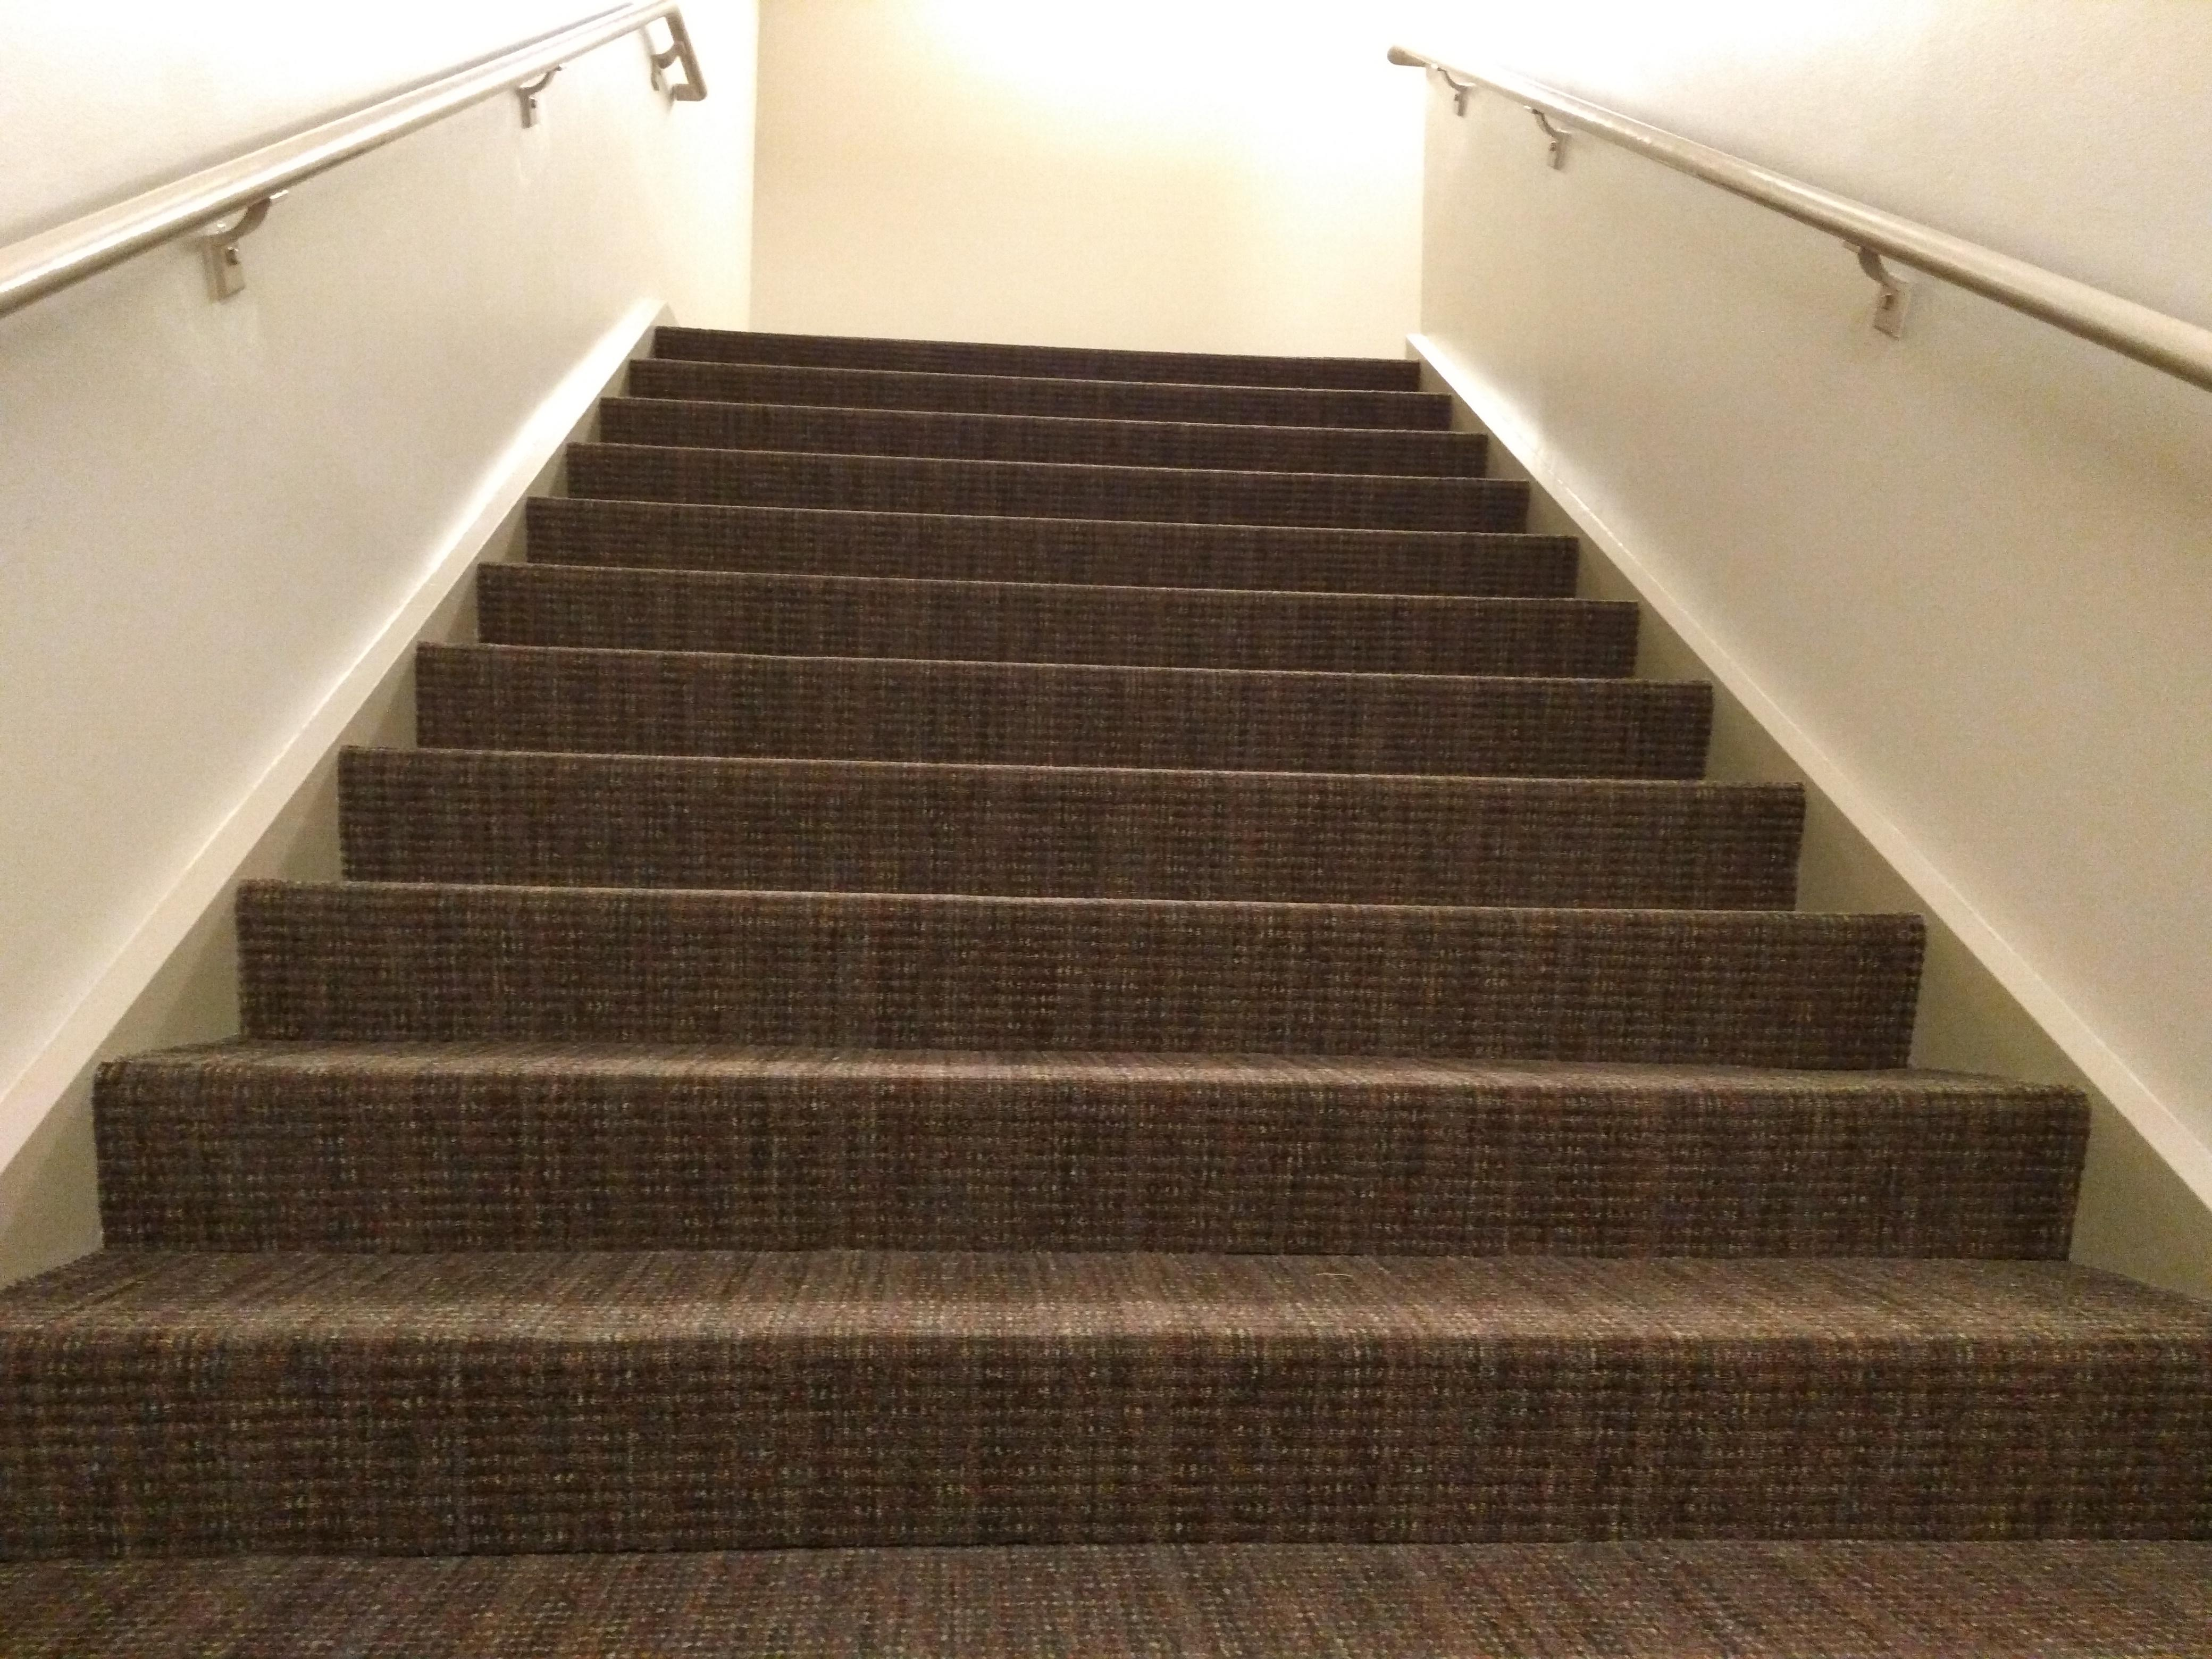stairs_up: (16, 288, 2212, 1577)
